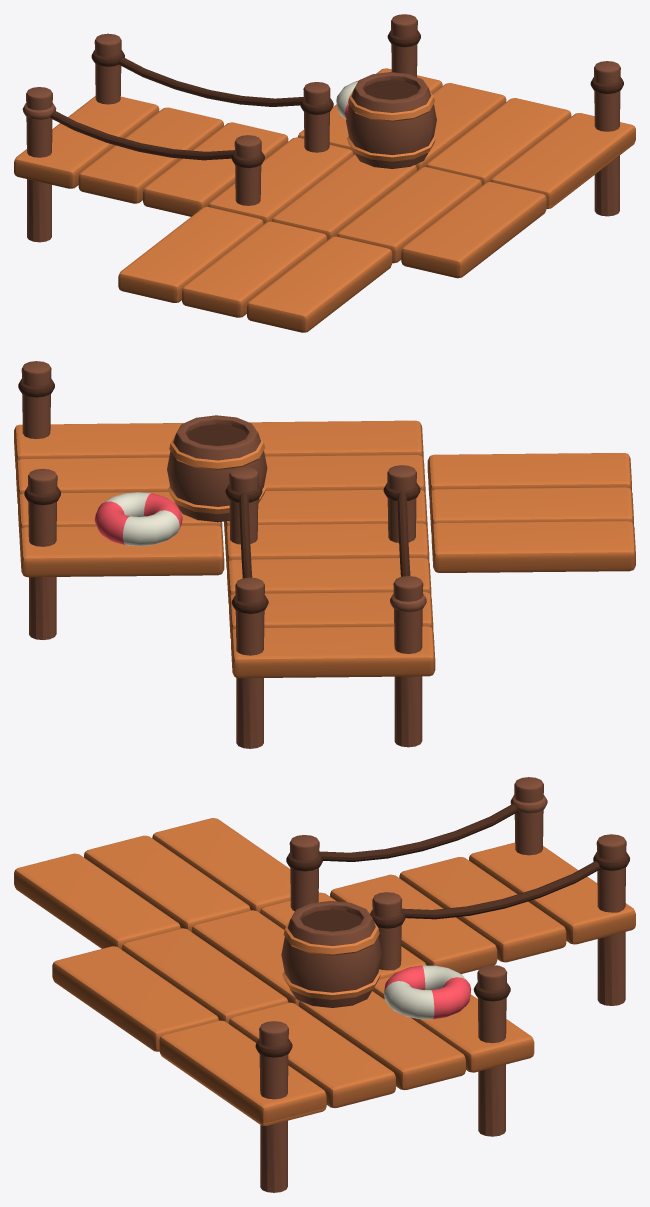
Rendered from Dock.fbx.
3 views of the same model, one above another, from view 1: azimuth 30°, elevation 25°; view 2: azimuth 150°, elevation 25°; view 3: azimuth 270°, elevation 25° (orthographic). The views are drawn at different scales.
Visible parts, largest first — view 1: Bouys1; view 2: Bouys1; view 3: Bouys1.
Boxes of the visible parts, <box> form: Bouys1: <box>14,14,635,332</box>; Bouys1: <box>14,361,635,748</box>; Bouys1: <box>14,777,635,1192</box>.
Bounding box in the file's own units: 10.02 × 2.69 × 9.05.
